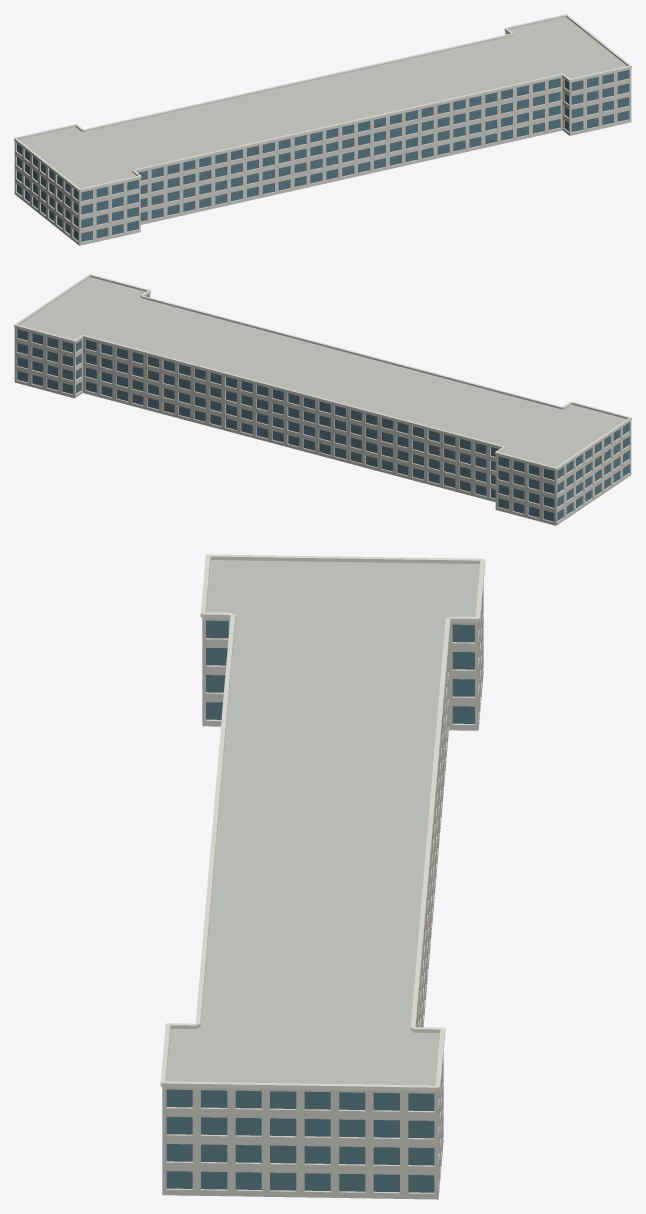
Rendered from sb_1365750556.far.glb.
The picture shows the model from 3 angles, top to bottom: view 1: azimuth 30°, elevation 25°; view 2: azimuth 150°, elevation 25°; view 3: azimuth 270°, elevation 25°; orthographic projection. The views are drawn at different scales.
Parts seen in each view (by area): view 1: roof, wall, glass, trim; view 2: roof, wall, glass, trim; view 3: roof, wall, glass, trim.
Boxes of the visible parts, x1,y1,x2,y2 form: roof: (19,17,626,188); wall: (14,31,631,245); glass: (17,33,628,241); trim: (14,14,631,191); roof: (19,277,626,467); wall: (14,293,631,525); glass: (17,295,628,521); trim: (14,274,631,470); roof: (166,560,479,1085); wall: (162,584,483,1199); glass: (166,620,474,1192); trim: (160,554,485,1091).
Bounding box in the file's own units: 132 × 13.04 × 34.09.
